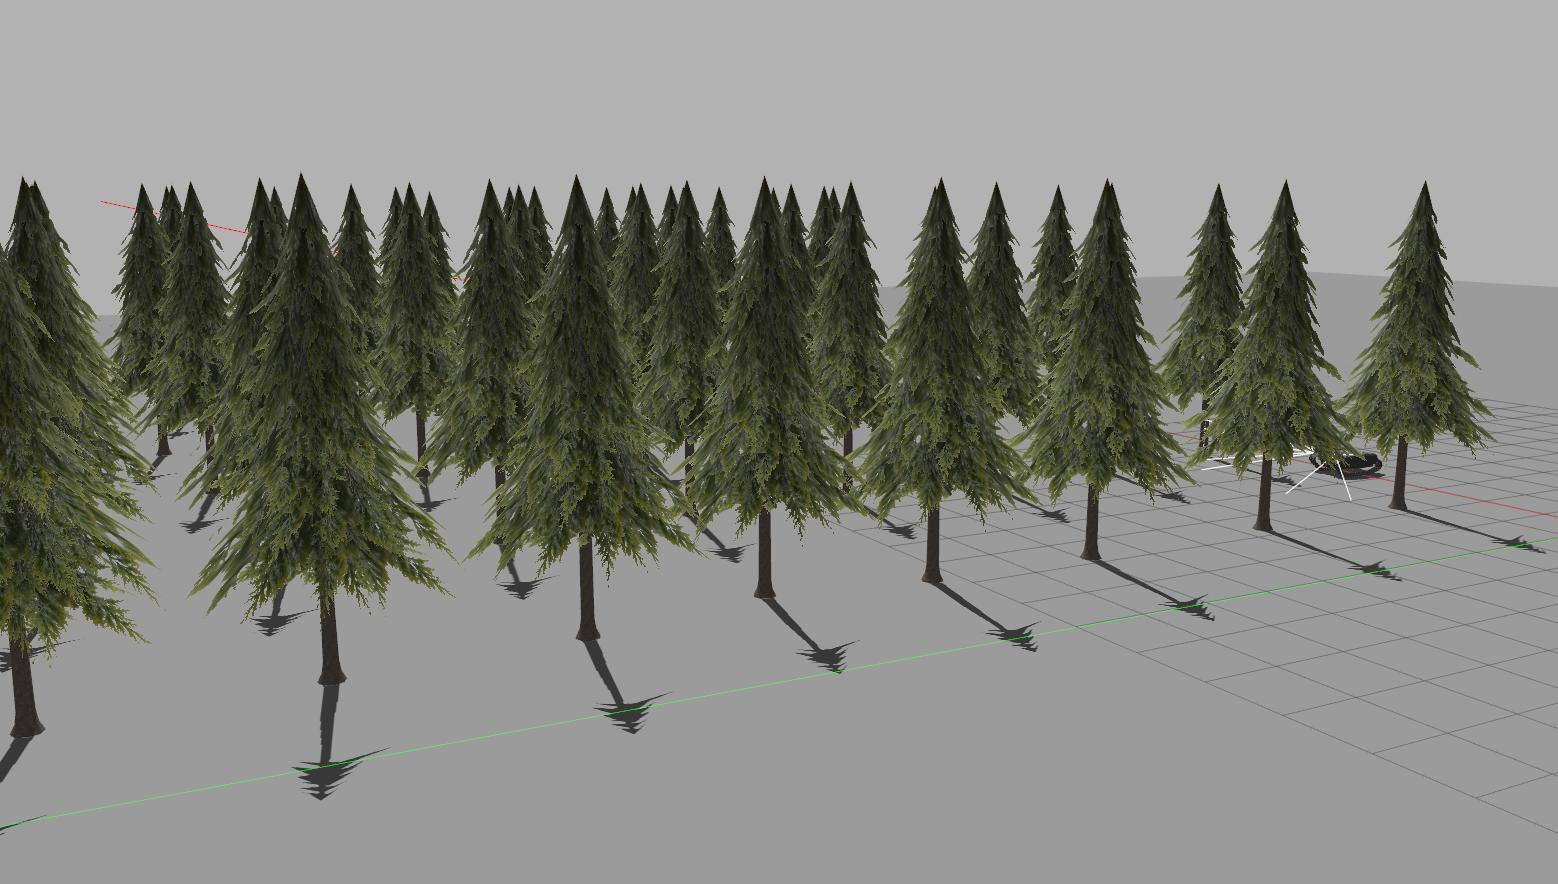tree_gazebo: (195, 180, 444, 685), (472, 180, 693, 642), (688, 180, 849, 601), (861, 183, 1028, 584), (1025, 183, 1187, 563), (1208, 183, 1348, 533), (1342, 183, 1491, 512), (429, 183, 530, 486), (375, 185, 450, 490), (1159, 185, 1241, 448), (642, 183, 721, 456), (812, 183, 891, 455), (149, 185, 228, 448), (967, 185, 1041, 423), (1028, 185, 1078, 369), (612, 185, 660, 369), (335, 185, 378, 351)
